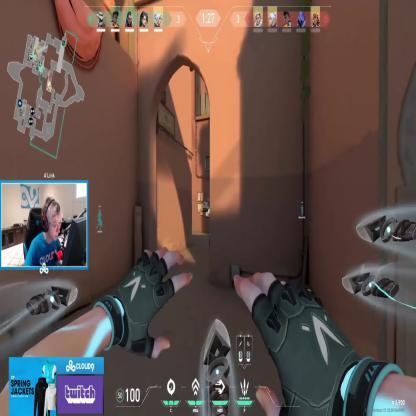enemy: (206, 200, 217, 255)
enemy_head: (207, 201, 212, 209)
